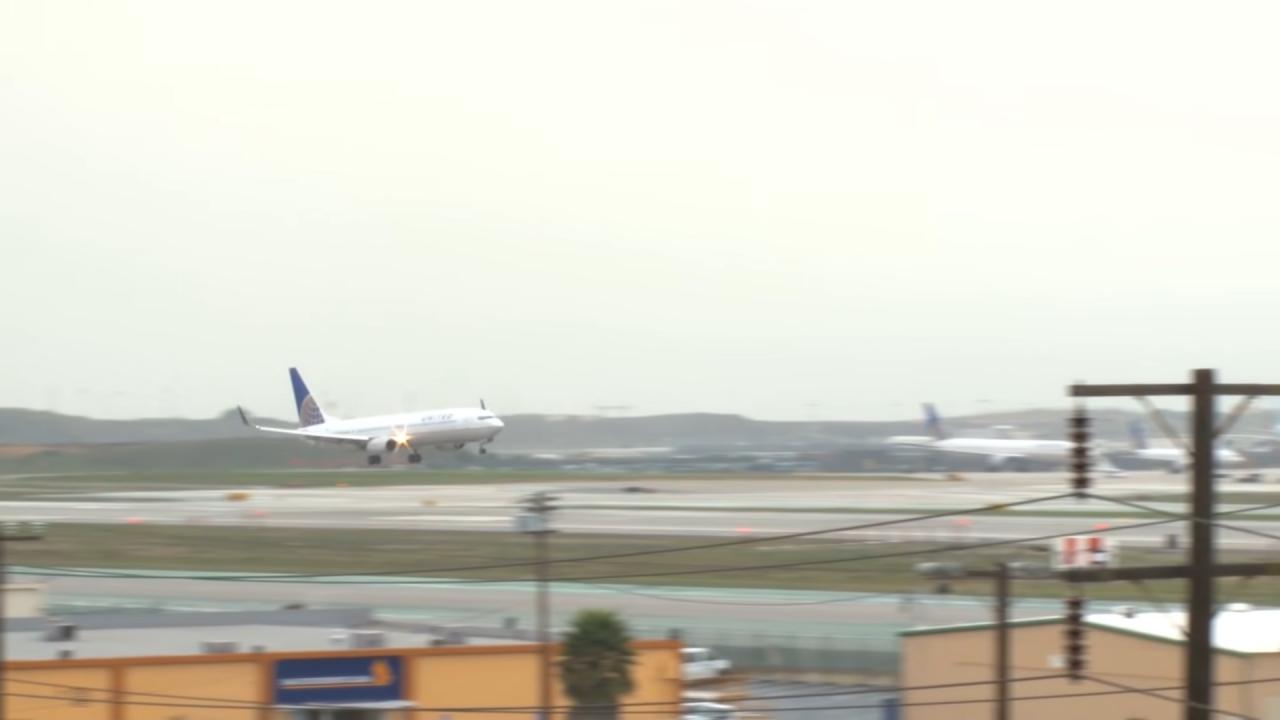Airplane: (221, 349, 520, 474)
